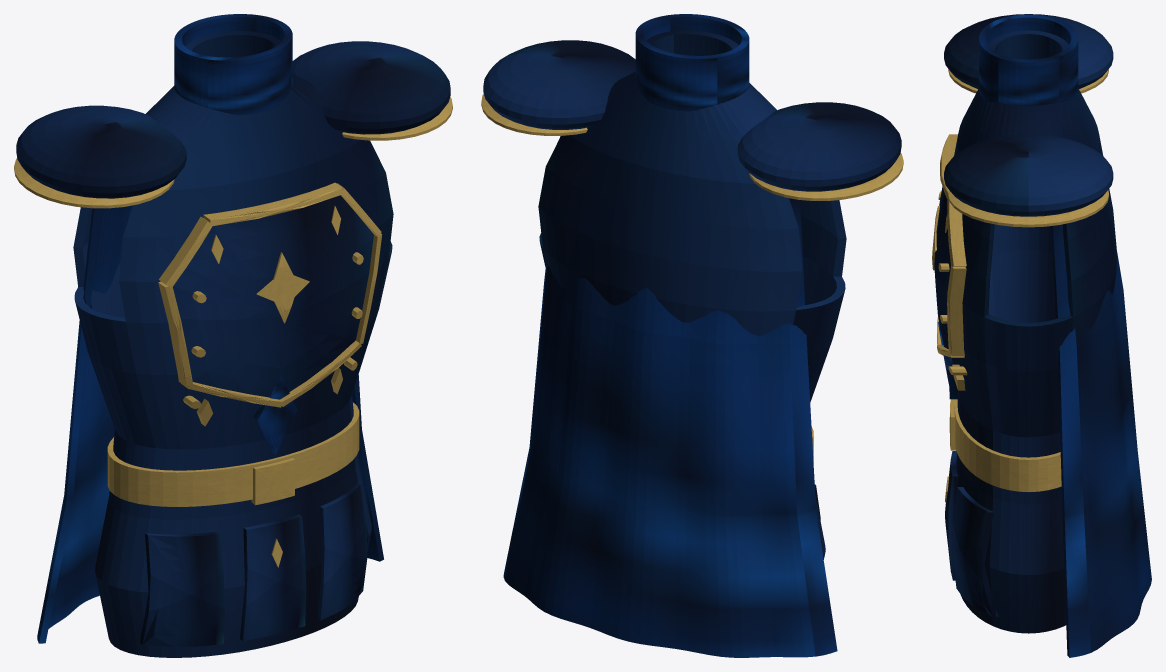
The model's file is magic.obj.
The picture shows the model from 3 angles, left to right: view 1: azimuth 30°, elevation 25°; view 2: azimuth 150°, elevation 25°; view 3: azimuth 270°, elevation 25°; orthographic projection. The views are drawn at different scales.
Parts seen in each view (by area): view 1: cuirass, breastplate, cape, left_pauldron, right_pauldron, skirt_-12, collar, belt, skirt_0, skirt_12, left_rim, breast_trim_4 (+9 smaller); view 2: cape, cuirass, left_pauldron, right_pauldron, collar, left_rim, right_rim; view 3: cuirass, cape, right_pauldron, collar, skirt_12, belt, left_pauldron, right_rim, breastplate, breast_trim_2, breast_trim_3, skirt_0 (+3 smaller).
Part boxes in pixels (x1,y1,x2,y2): cuirass: (73, 31, 393, 657); breastplate: (173, 195, 373, 397); cape: (37, 205, 383, 643); left_pauldron: (16, 105, 186, 198); right_pauldron: (292, 41, 450, 134); skirt_-12: (139, 531, 224, 647); collar: (174, 14, 292, 115); belt: (107, 402, 359, 506); skirt_0: (240, 514, 306, 641); skirt_12: (317, 481, 367, 620); left_rim: (14, 158, 174, 208); breast_trim_4: (203, 182, 342, 225); cape: (503, 136, 837, 657); cuirass: (538, 30, 846, 559); left_pauldron: (737, 102, 901, 191); right_pauldron: (483, 40, 635, 129); collar: (635, 14, 749, 111); left_rim: (749, 153, 903, 200); right_rim: (481, 94, 587, 135); cuirass: (951, 30, 1116, 633); cape: (1051, 224, 1151, 657); right_pauldron: (944, 134, 1113, 216); collar: (979, 14, 1078, 105); skirt_12: (952, 487, 998, 616); belt: (954, 399, 1061, 492); left_pauldron: (944, 14, 1113, 88); right_rim: (948, 190, 1108, 227); breastplate: (934, 187, 950, 348); breast_trim_2: (947, 265, 966, 356); breast_trim_3: (947, 197, 966, 267); skirt_0: (945, 451, 958, 580).
Bounding box in the file's own units: 83.57 × 112 × 41.27.
3 materials, 3 textured.
